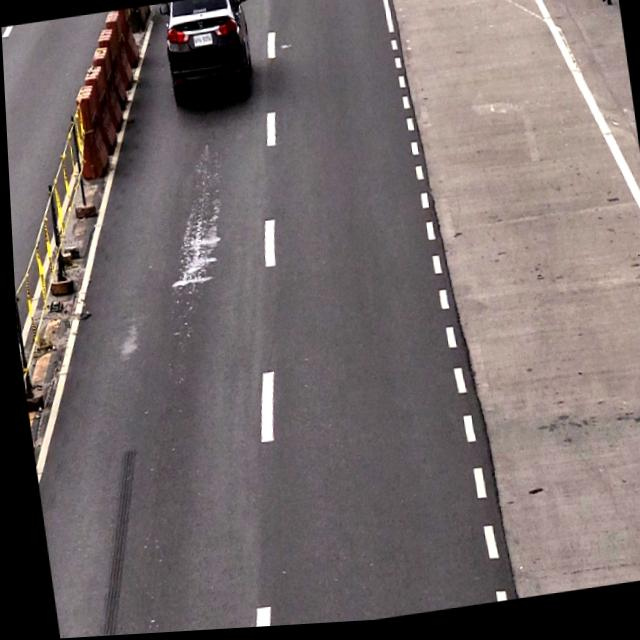Car: (156, 0, 255, 103)
License-Plate: (191, 33, 212, 52)
